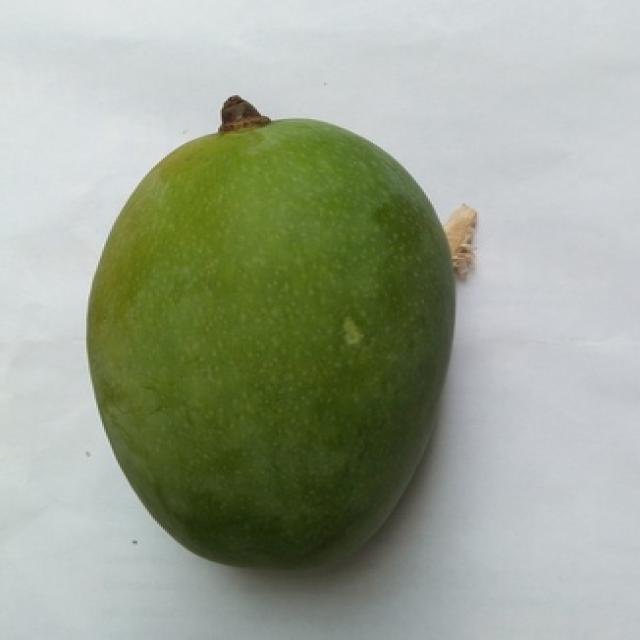Mango: (86, 119, 453, 567)
